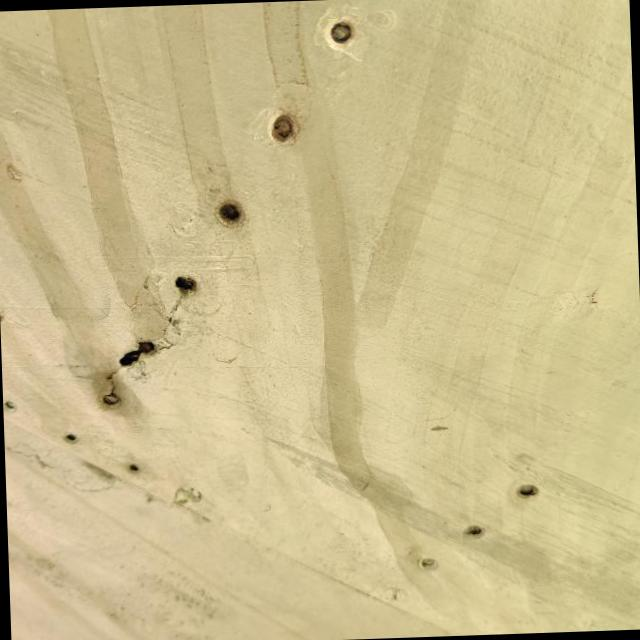Crack: (116, 289, 187, 369)
